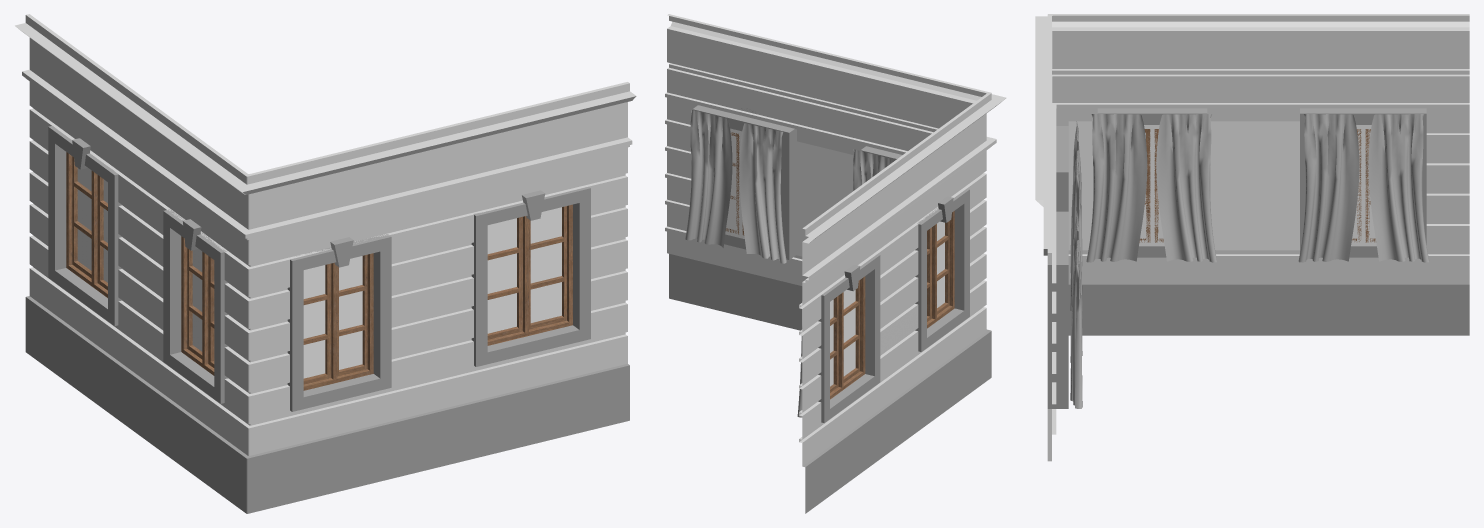
Rendered from Facade_Bottom_Corner.fbx.
3 renders of one model, left to right at view 1: azimuth 30°, elevation 25°; view 2: azimuth 150°, elevation 25°; view 3: azimuth 270°, elevation 25°, orthographic. The views are drawn at different scales.
Parts seen in each view (by area): view 1: Facade_Bottom_Corner; view 2: Facade_Bottom_Corner; view 3: Facade_Bottom_Corner.
Part boxes in pixels (box(x1,y1,x2,y2)): Facade_Bottom_Corner: box(15, 14, 636, 513); Facade_Bottom_Corner: box(665, 14, 1006, 513); Facade_Bottom_Corner: box(1035, 14, 1469, 461).
Size of the model in its own units: 5.77 by 4.71 by 5.77.
